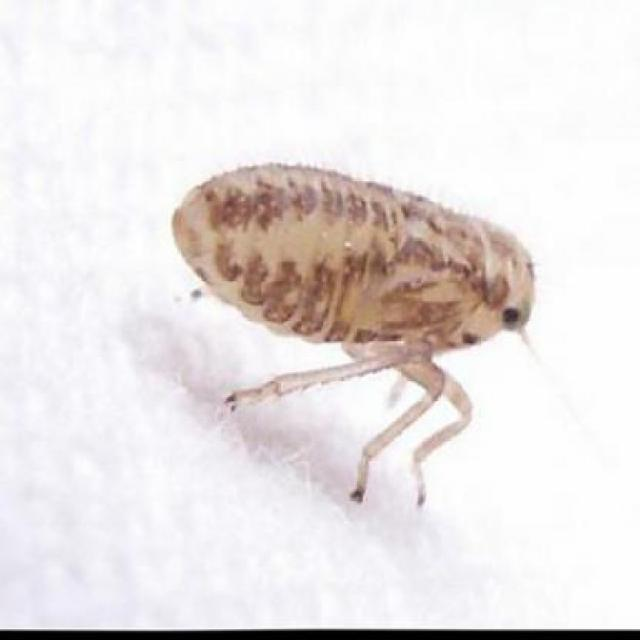brown-planthopper: (168, 148, 542, 418)
